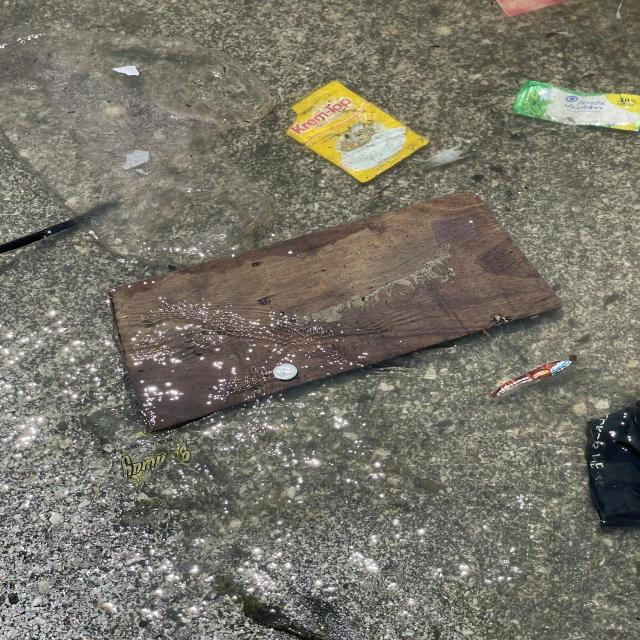plastic_waste: (286, 81, 432, 184), (512, 81, 640, 133), (490, 355, 579, 399)
wood_waste: (107, 190, 566, 437)
